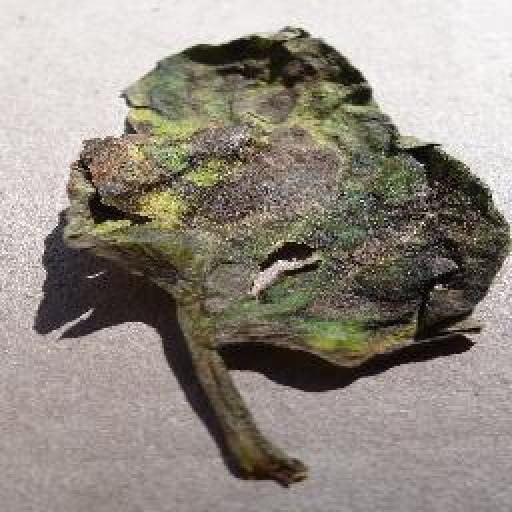Early Blight: (67, 24, 510, 372)
